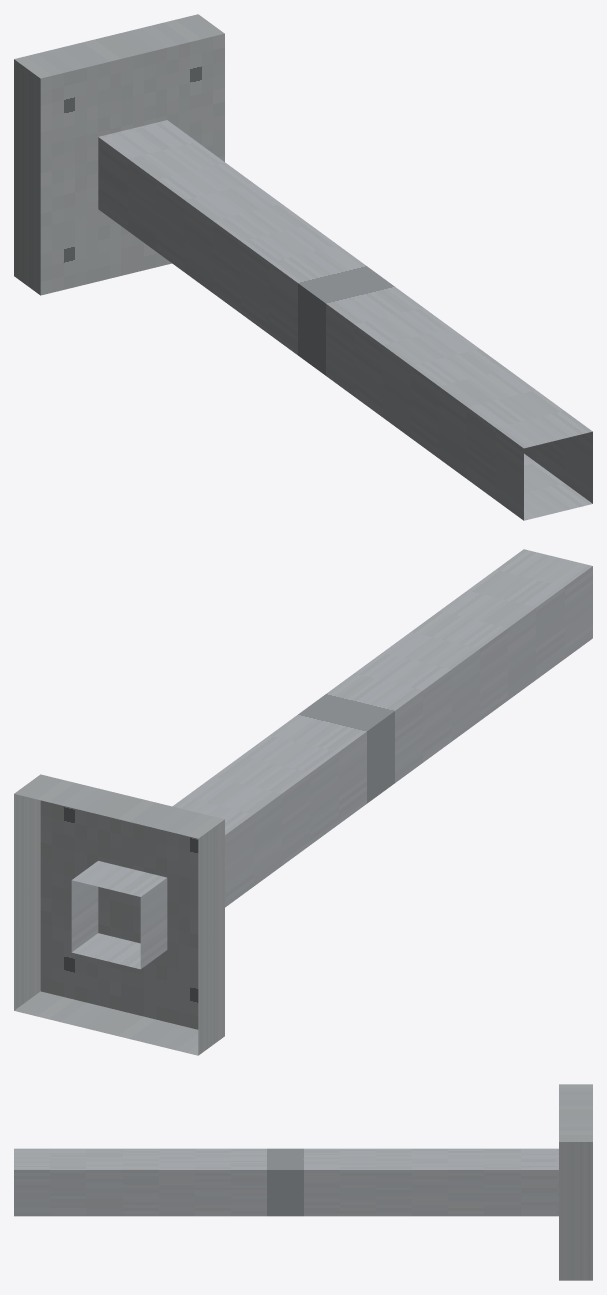
File: opener_rail_1.obj
The picture shows the model from 3 angles, top to bottom: view 1: azimuth 30°, elevation 25°; view 2: azimuth 150°, elevation 25°; view 3: azimuth 270°, elevation 25°; orthographic projection. The views are drawn at different scales.
Visible parts, largest first — view 1: rail; view 2: rail; view 3: rail.
Part boxes in pixels (x1,y1,x2,y2): rail: [14, 14, 592, 520]; rail: [14, 549, 592, 1055]; rail: [14, 1084, 592, 1280].
Bounding box in the file's own units: 0.25 × 0.2812 × 1.06.
